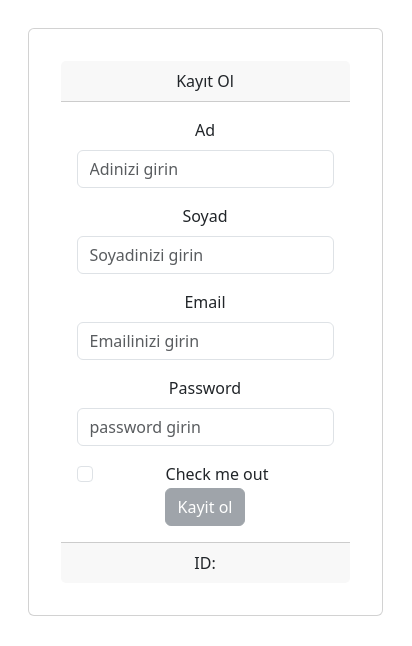
register page › error messages › email input throws error for emre@wit.
In the field with test id "email-input": (206, 341) [77, 322, 334, 360], type "emre@wit."
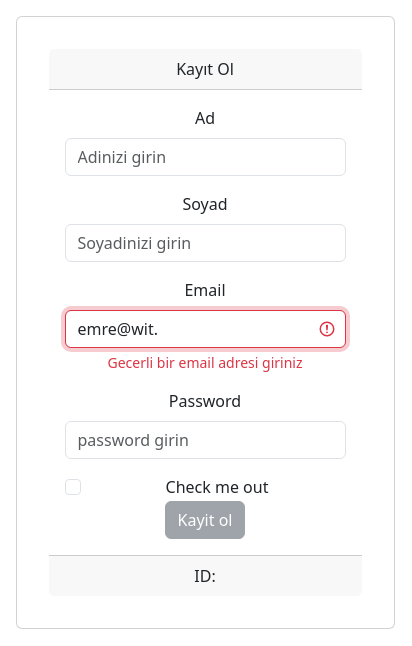
Check: the text "Gecerli bir email adresi giriniz" is shown, box [108, 352, 302, 372]
